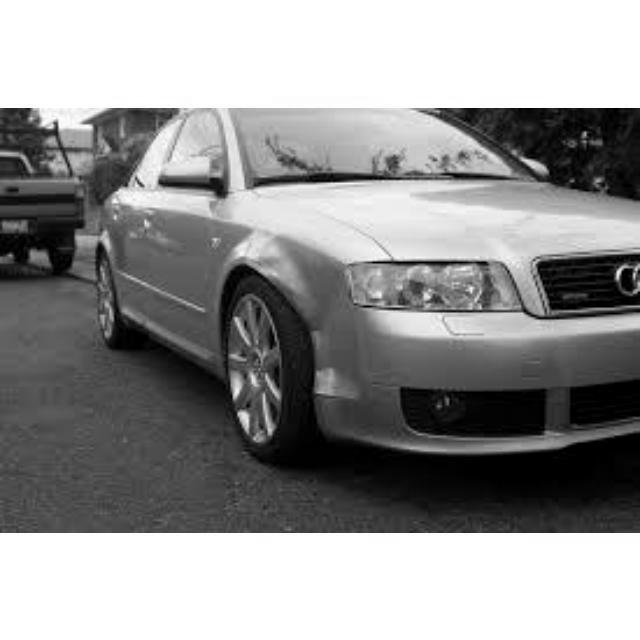fender-dent: (245, 226, 368, 400)
